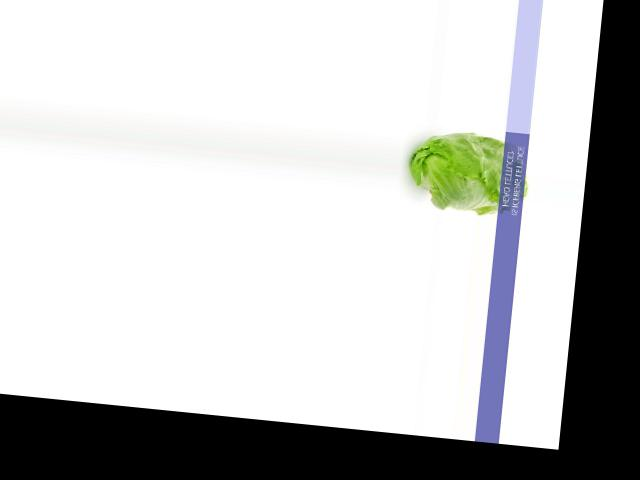lettuce: (400, 129, 532, 219)
